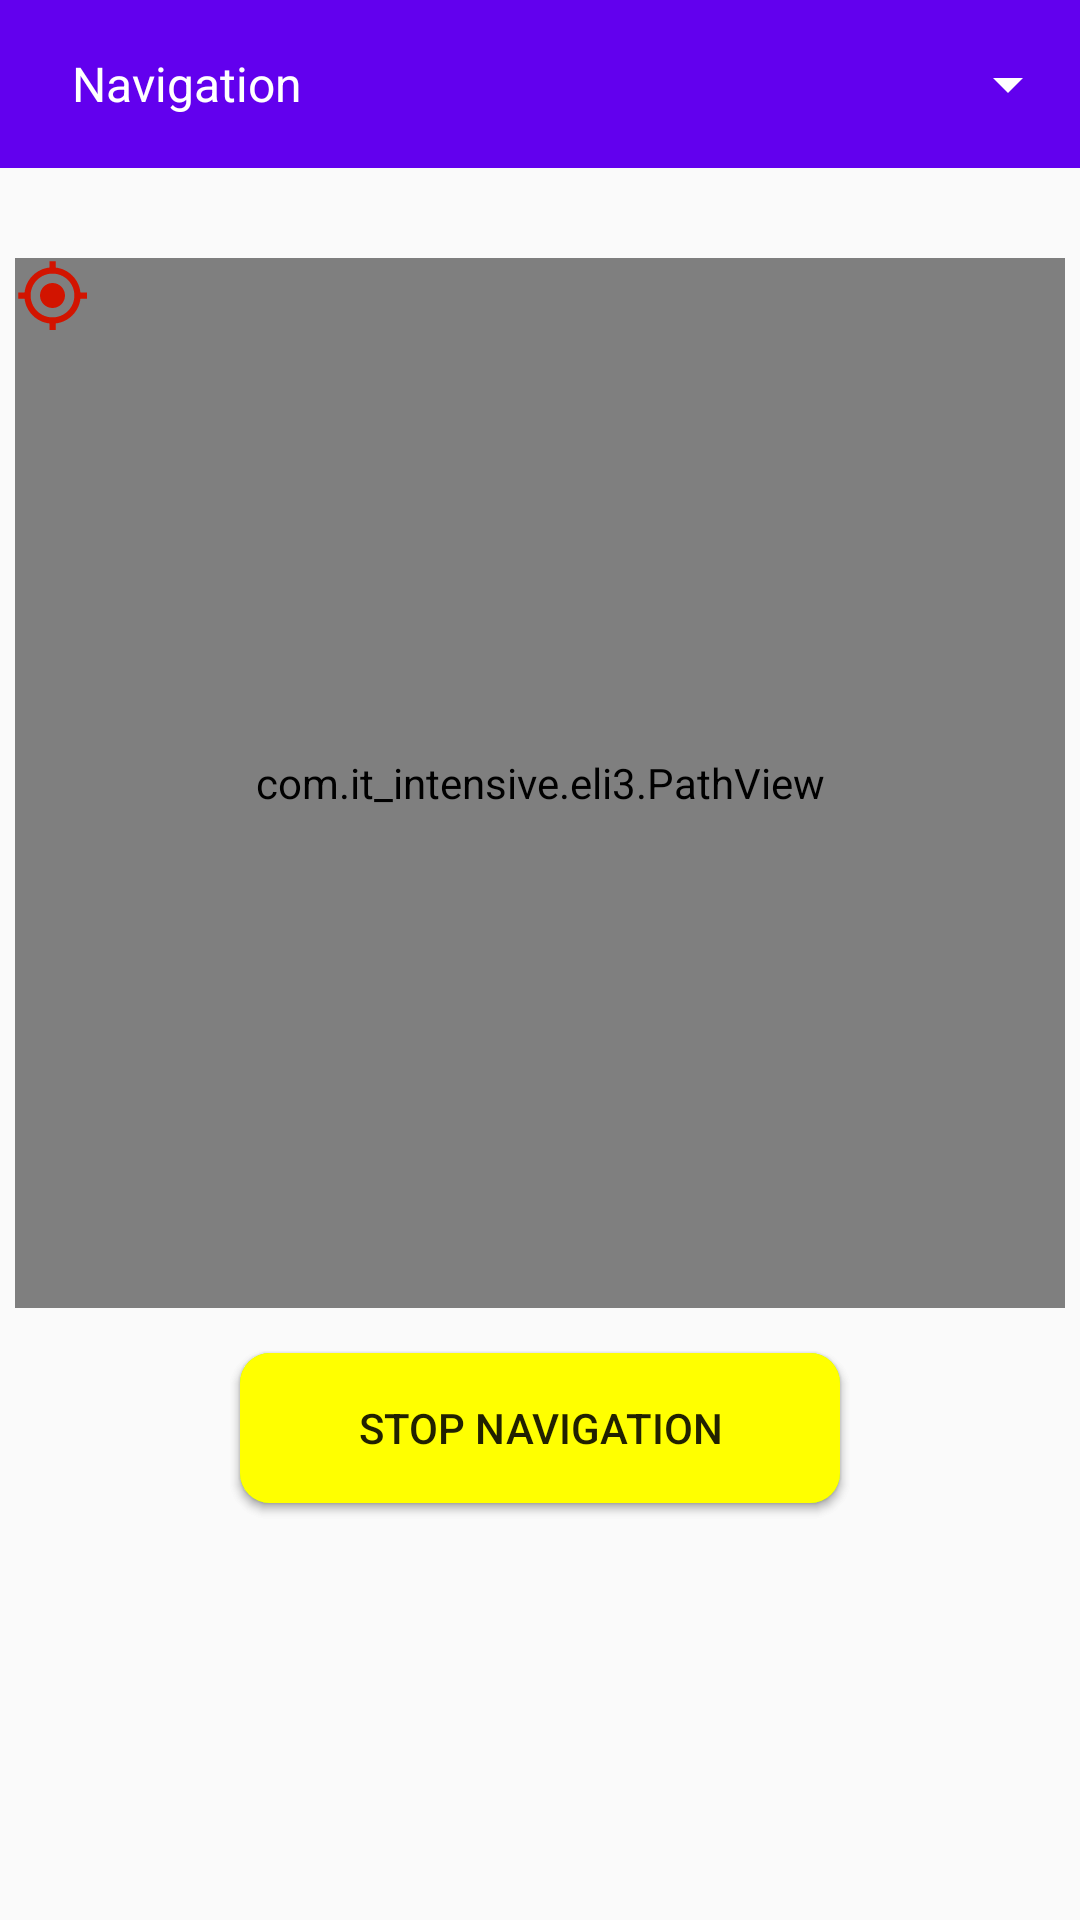

Icon bounding boxes for this 1080 × 1920 phone screenshot, format (x1, y1, x2, y2):
location: (18, 261, 87, 330)
